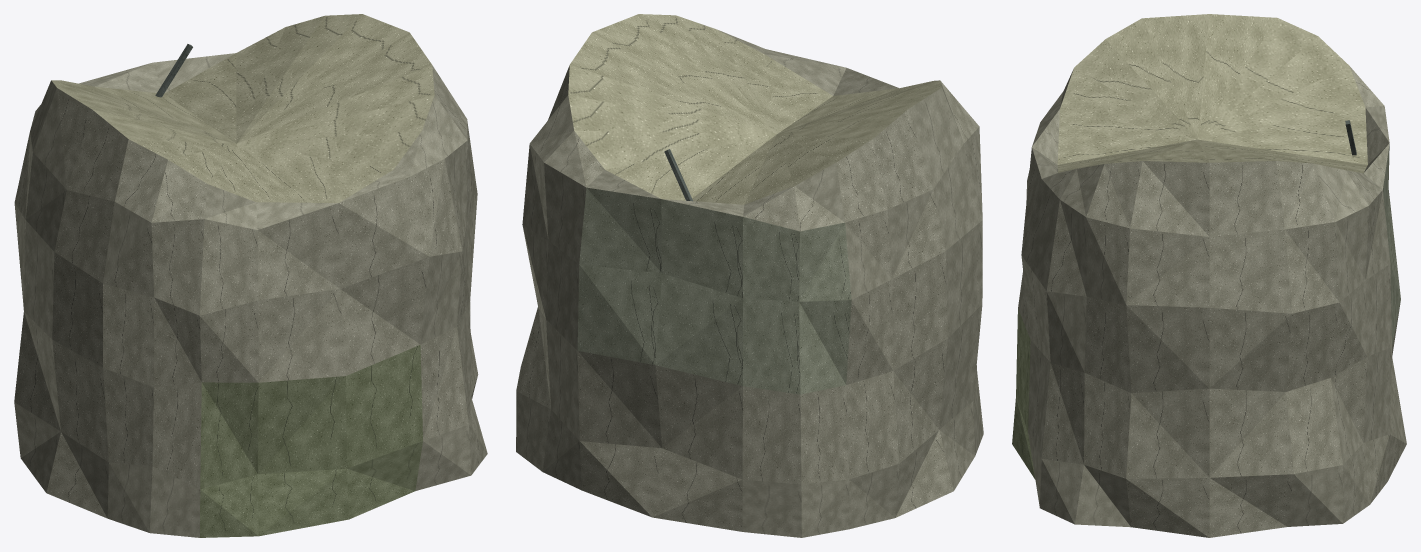
The model's file is SM_QD_UrbanRock_D_SplitOutcrop.fbx.
The picture shows the model from 3 angles, left to right: view 1: azimuth 30°, elevation 25°; view 2: azimuth 150°, elevation 25°; view 3: azimuth 270°, elevation 25°; orthographic projection. The views are drawn at different scales.
Parts seen in each view (by area): view 1: SM_QD_UrbanRock_D_SplitOutcrop; view 2: SM_QD_UrbanRock_D_SplitOutcrop; view 3: SM_QD_UrbanRock_D_SplitOutcrop.
Boxes of the visible parts, x1=… form: SM_QD_UrbanRock_D_SplitOutcrop: x1=14, y1=14, x2=487, y2=537; SM_QD_UrbanRock_D_SplitOutcrop: x1=516, y1=14, x2=983, y2=537; SM_QD_UrbanRock_D_SplitOutcrop: x1=1012, y1=14, x2=1406, y2=537.
Bounding box in the file's own units: 4.5 × 4 × 4.
1 material, 1 textured.
